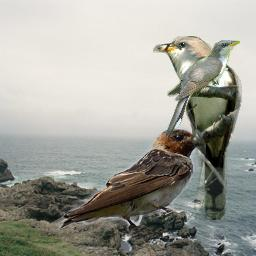Cuckoo: (153, 36, 242, 220), (165, 40, 240, 137)
Swallow: (55, 126, 205, 235)
